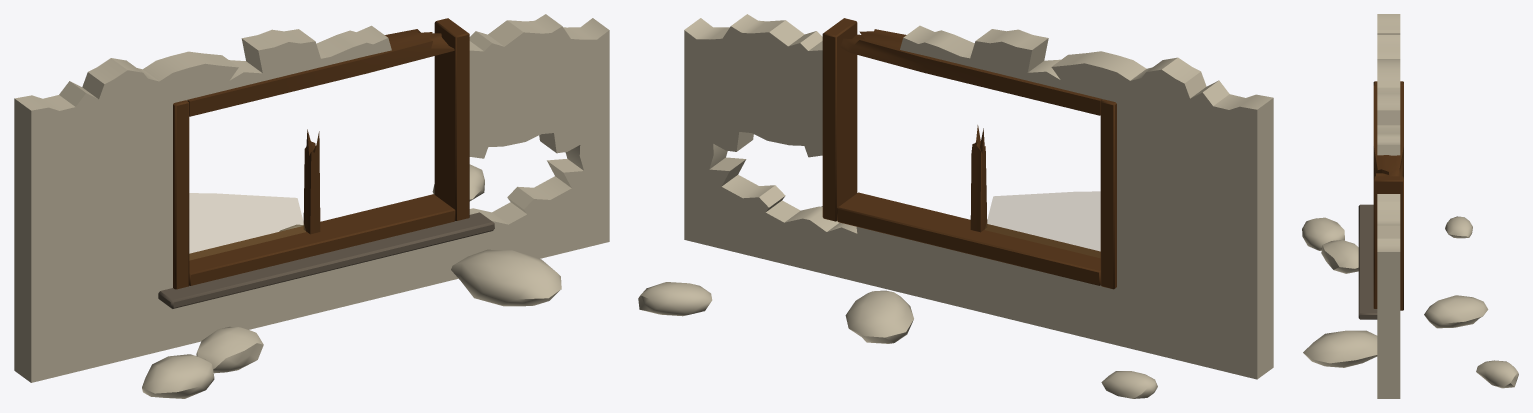
File: wand_fenster_2x1_kaputt.glb
3 renders of one model, left to right at view 1: azimuth 30°, elevation 25°; view 2: azimuth 150°, elevation 25°; view 3: azimuth 270°, elevation 25°, orthographic. The views are drawn at different scales.
Visible parts, largest first — view 1: wand_fenster_2x1_kaputt; view 2: wand_fenster_2x1_kaputt; view 3: wand_fenster_2x1_kaputt.
Boxes of the visible parts, x1,y1,x2,y2 form: wand_fenster_2x1_kaputt: (14, 14, 609, 398); wand_fenster_2x1_kaputt: (638, 14, 1273, 398); wand_fenster_2x1_kaputt: (1302, 14, 1518, 398).
Bounding box in the file's own units: 2 × 0.9913 × 0.9357.
